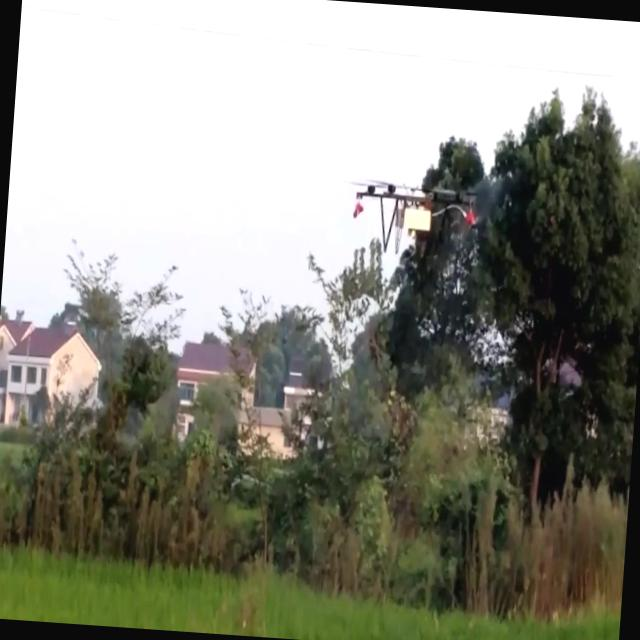drone: (346, 166, 492, 266)
